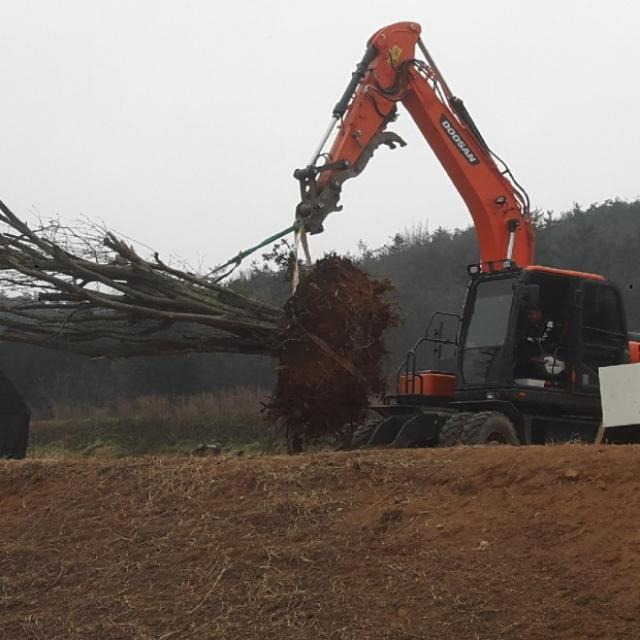excavator: (293, 21, 640, 452)
plant: (0, 197, 404, 435)
